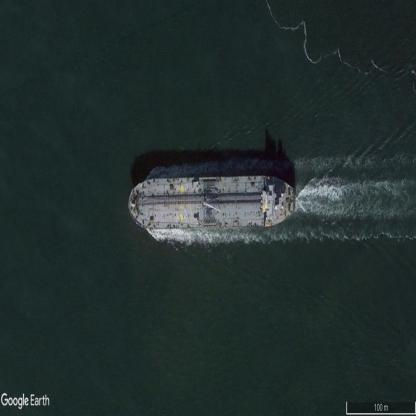ship: (128, 177, 295, 223)
